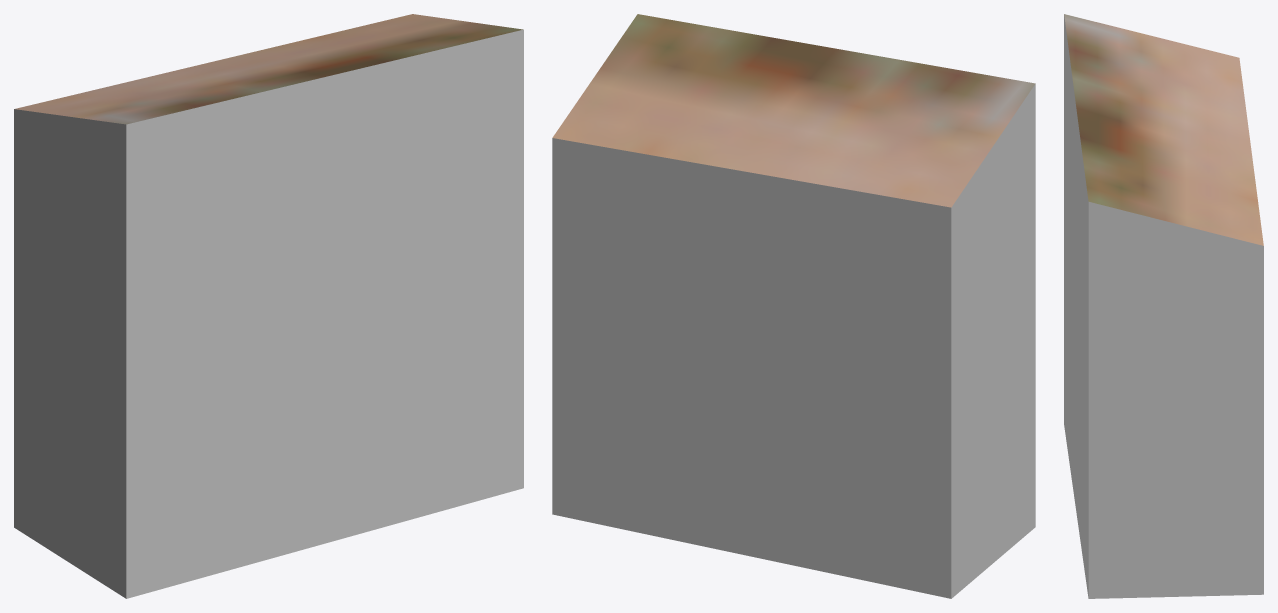
The model's file is DEBW_0010007THYs.gltf.
The picture shows the model from 3 angles, left to right: view 1: azimuth 30°, elevation 25°; view 2: azimuth 150°, elevation 25°; view 3: azimuth 270°, elevation 25°; orthographic projection. The views are drawn at different scales.
Visible parts, largest first — view 1: Z_UP; view 2: Z_UP; view 3: Z_UP.
Boxes of the visible parts, <box> form: Z_UP: <box>14,14,523,598</box>; Z_UP: <box>552,14,1035,598</box>; Z_UP: <box>1064,14,1263,598</box>.
Size of the model in its own units: 3.81 by 4.09 by 1.8.
2 materials, 1 textured.
